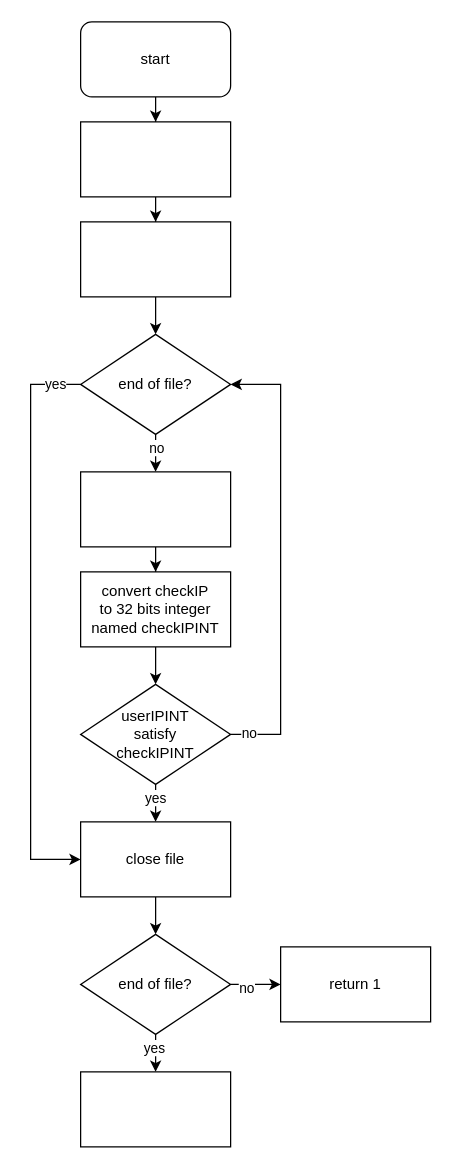
The diagram is 453 pixels wide and 1169 high, and some of its shapes have lost their labels. The centre of each missing label's shape, as x and y in pixels:
convert userIP to 32 bits integer named userIPINT: point 155,259
open file "access.txt": point 155,159
read line from file: point 155,509
return 0: point 155,1109
